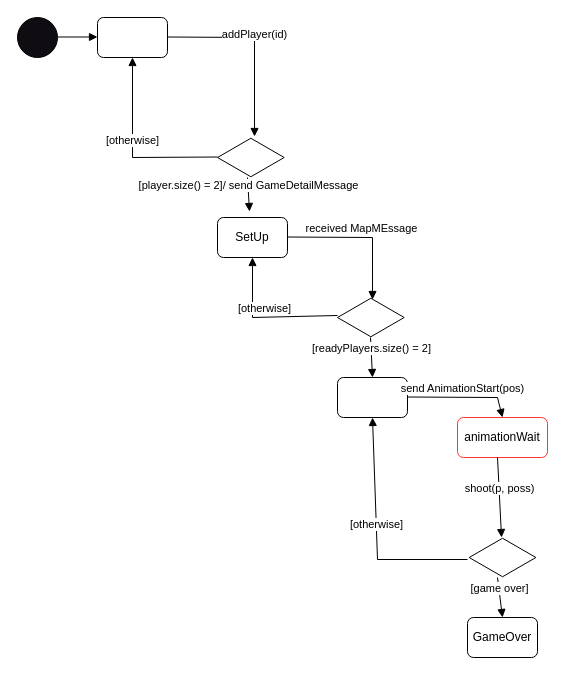
Some shapes in this 565 by 675 pixel diagram are drawn without their labels. The shapes that lost their labels are listed below. From the top down, each one's box as (x1, y1, x2, y2) in pixels, then its label:
(96, 16, 168, 58): Wait
(336, 376, 408, 418): Battle
